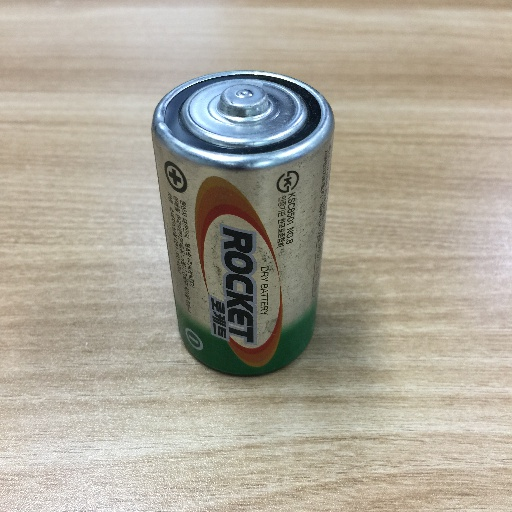Battery_0: (130, 58, 342, 383)
